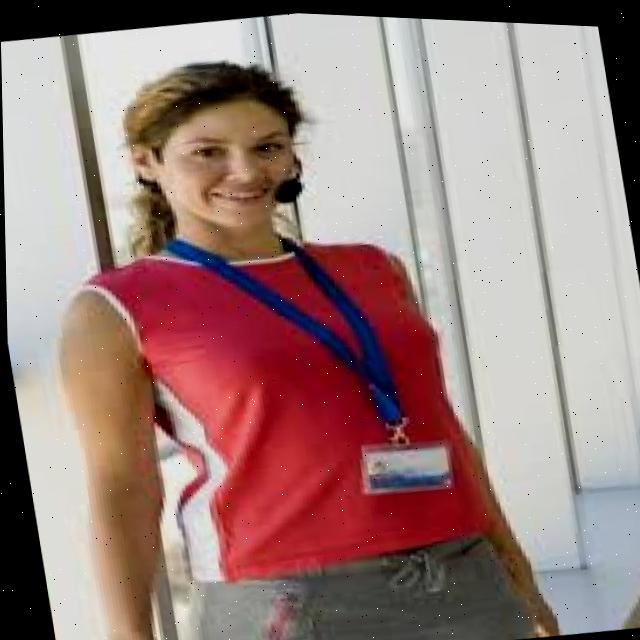id_card: (157, 190, 468, 522)
